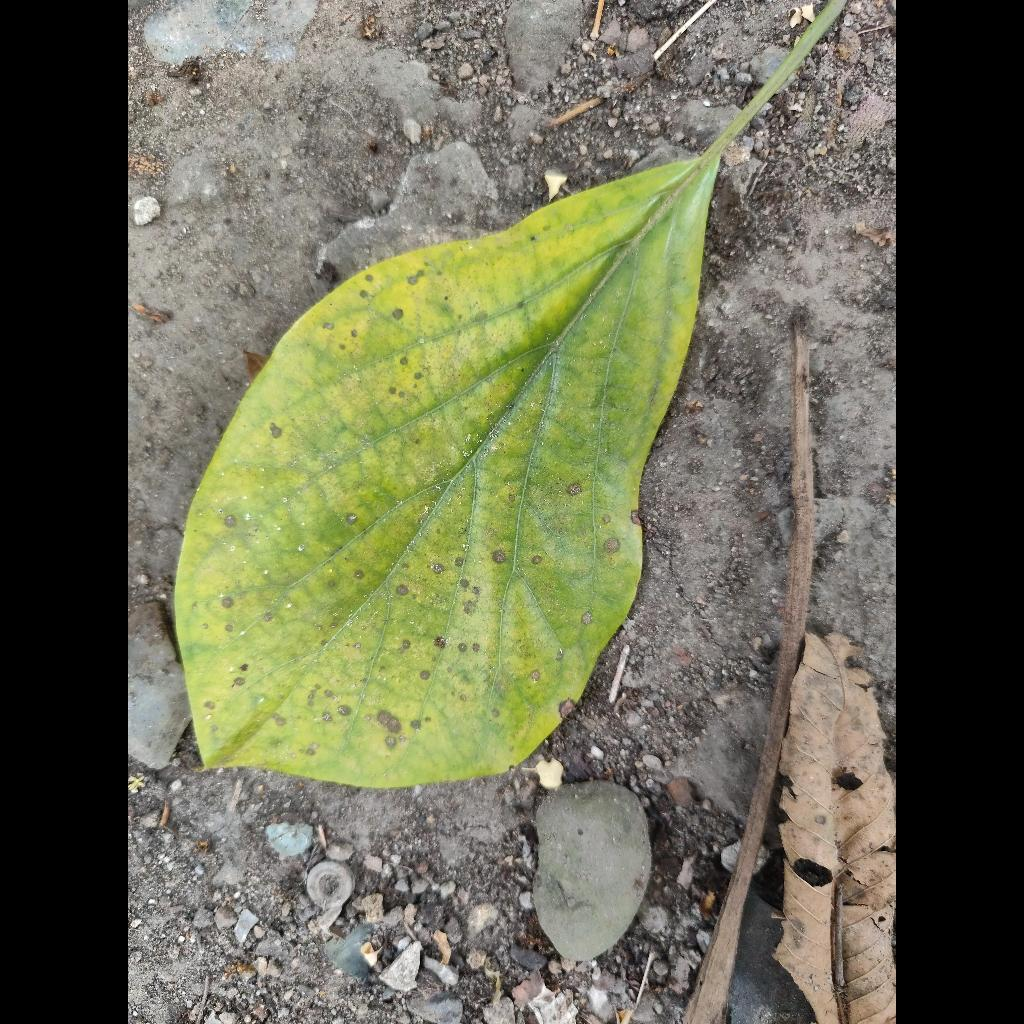deficiencia_nutricional: (176, 0, 842, 787)
